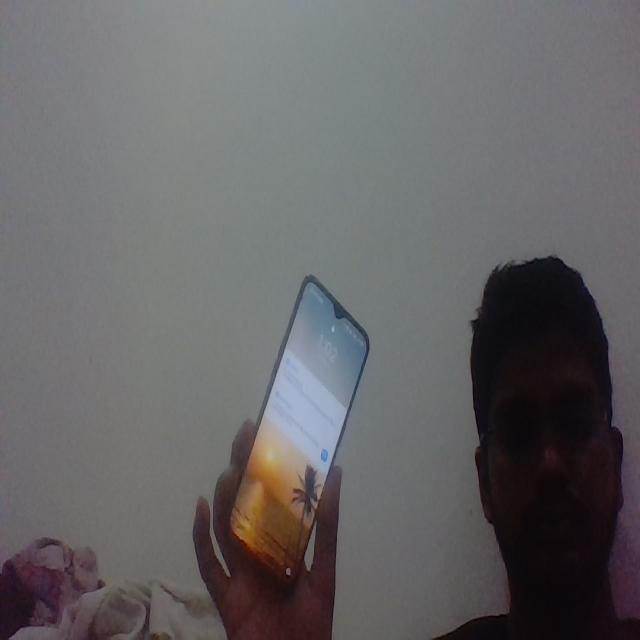Phone: (225, 273, 374, 583)
